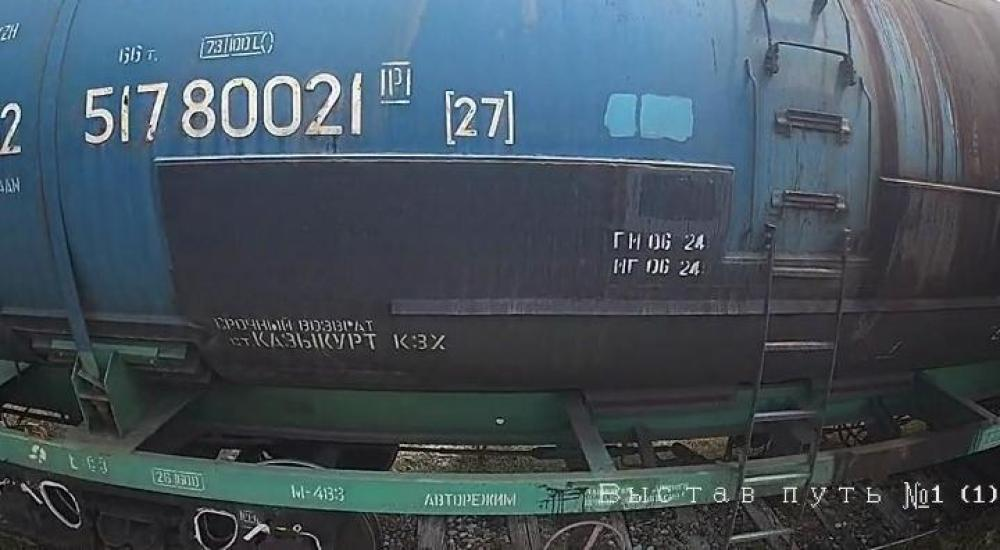Wagon-number: (79, 64, 372, 152)
